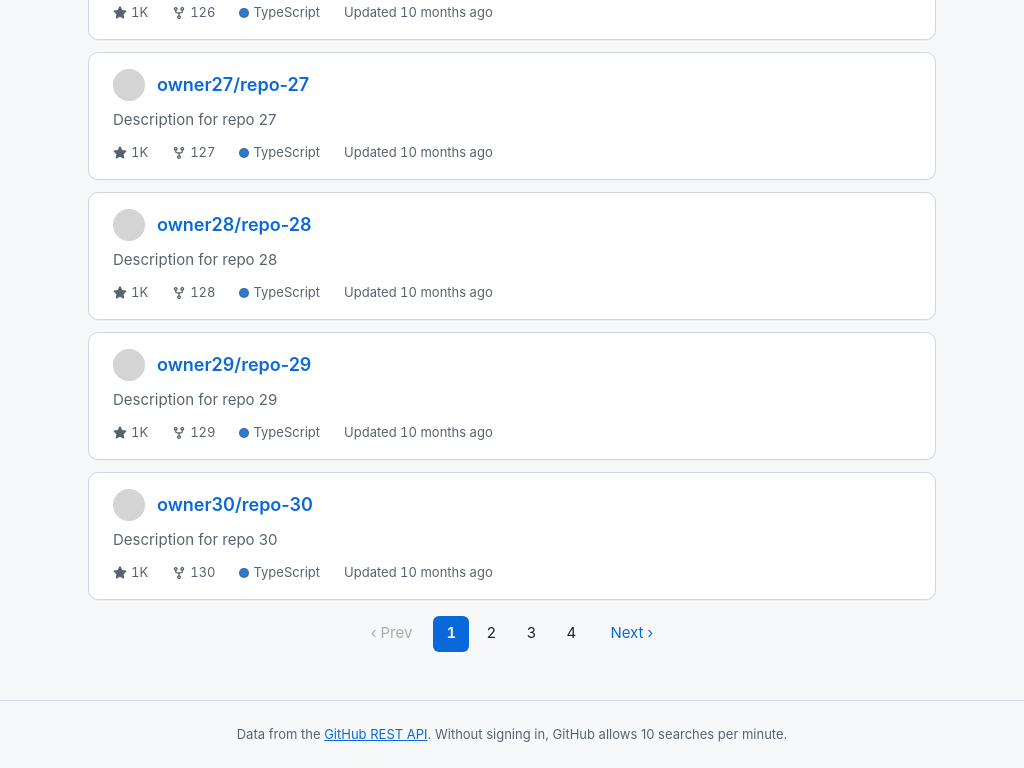
Test case: App › renders results and pages through them via the URL
(page scrolled)
Expected: the button with aria-label "Previous page" is disabled, x1=358 y1=616 x2=425 y2=652
Click the button with aria-label "Next page" at coordinates (632, 634), box x1=597 y1=616 x2=666 y2=652
(page scrolled)
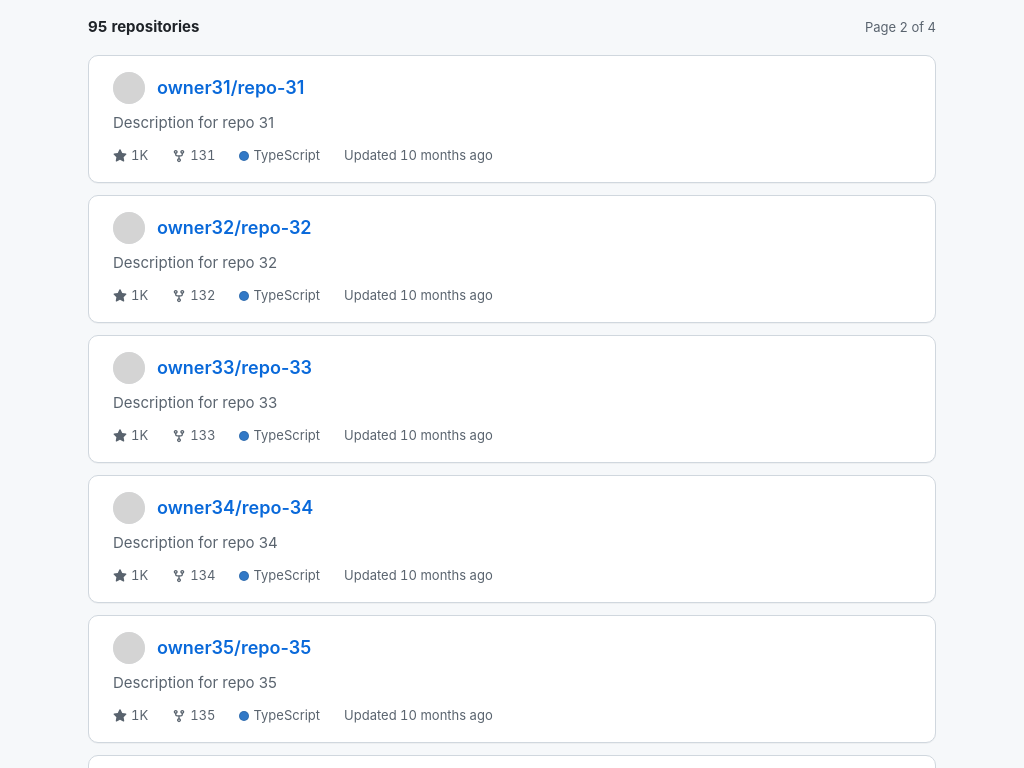
Expected: the text "Page 2 of 4" is shown, x1=865 y1=18 x2=936 y2=38
Expected: the link "owner31/repo-31" is shown, x1=157 y1=77 x2=304 y2=98
